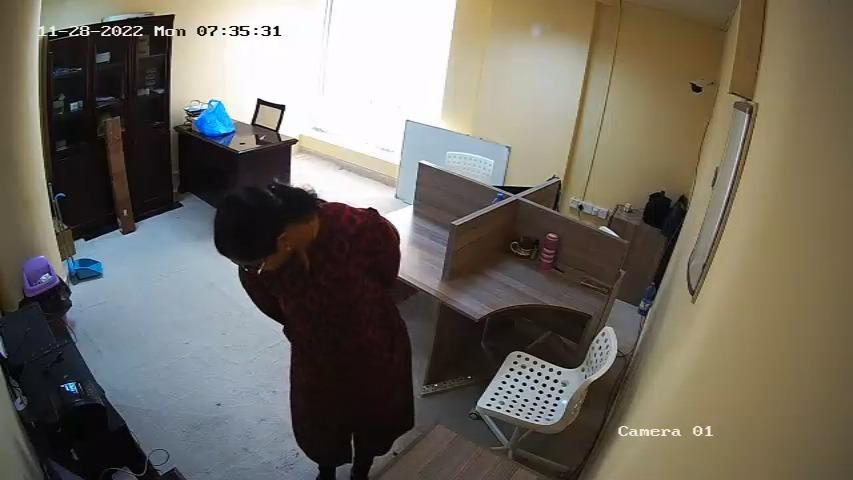no_apron: (286, 257, 396, 414)
